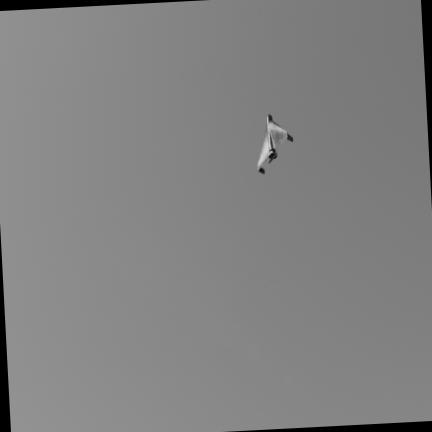Shahed: (258, 115, 293, 174)
